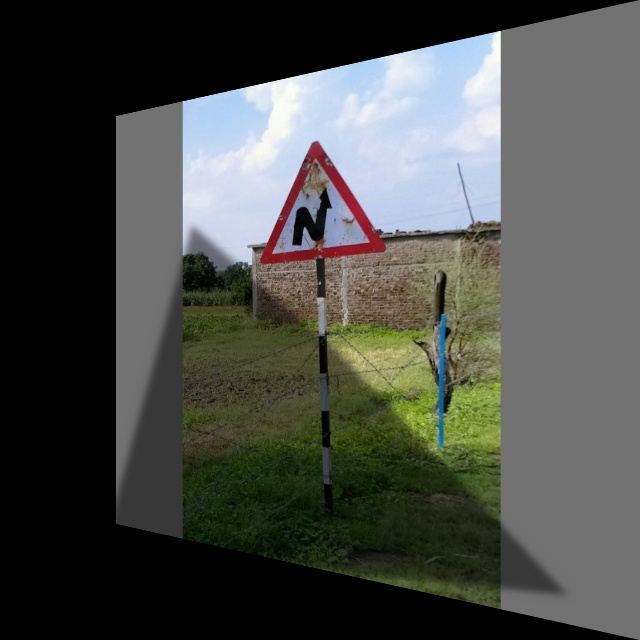Right_Reverse_Bend: (261, 131, 380, 261)
